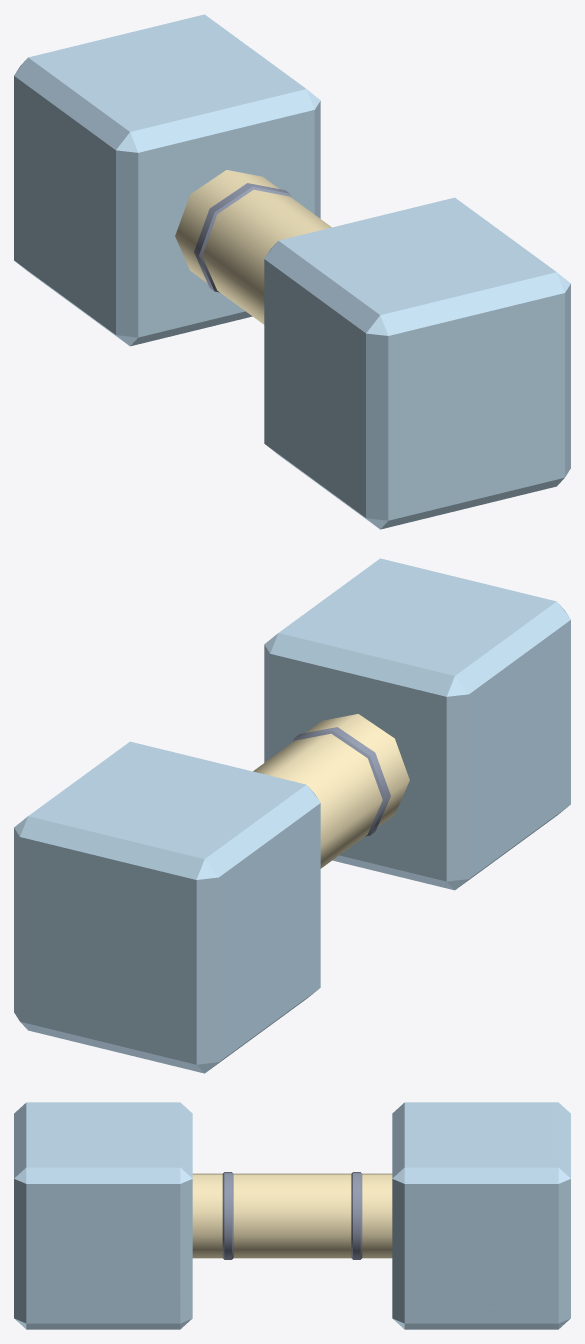
File: R4C_STRUT_STANDARD_LOD1.glb
The picture shows the model from 3 angles, top to bottom: view 1: azimuth 30°, elevation 25°; view 2: azimuth 150°, elevation 25°; view 3: azimuth 270°, elevation 25°; orthographic projection. The views are drawn at different scales.
Visible parts, largest first — view 1: R4C_STRUT_STANDARD_LOD1; view 2: R4C_STRUT_STANDARD_LOD1; view 3: R4C_STRUT_STANDARD_LOD1.
Part boxes in pixels (<box>): R4C_STRUT_STANDARD_LOD1: <box>14,14,570,529</box>; R4C_STRUT_STANDARD_LOD1: <box>14,558,570,1073</box>; R4C_STRUT_STANDARD_LOD1: <box>14,1102,570,1329</box>.
Size of the model in its own units: 0.52 by 0.52 by 1.62.
